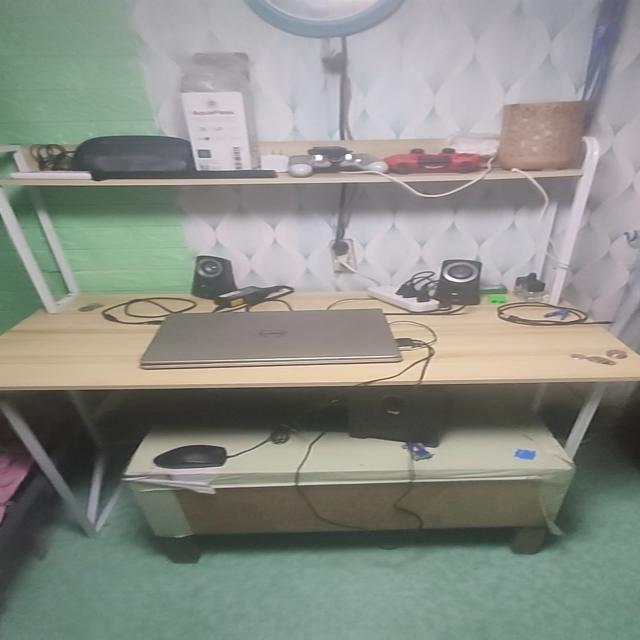table: (0, 276, 640, 561)
